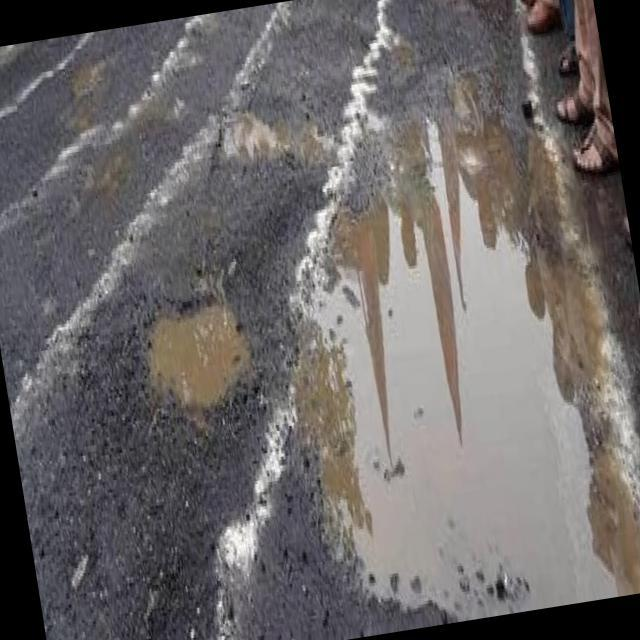Pothole: (266, 101, 640, 640), (133, 265, 255, 409)
